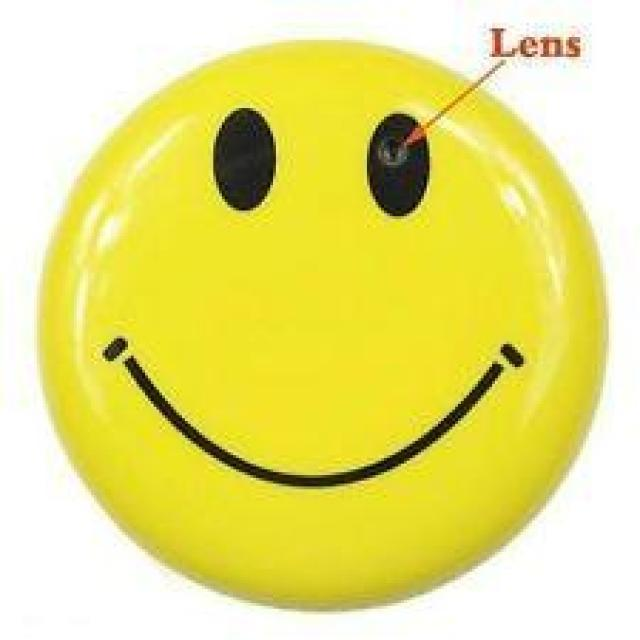hidden camera: (374, 126, 415, 176)
